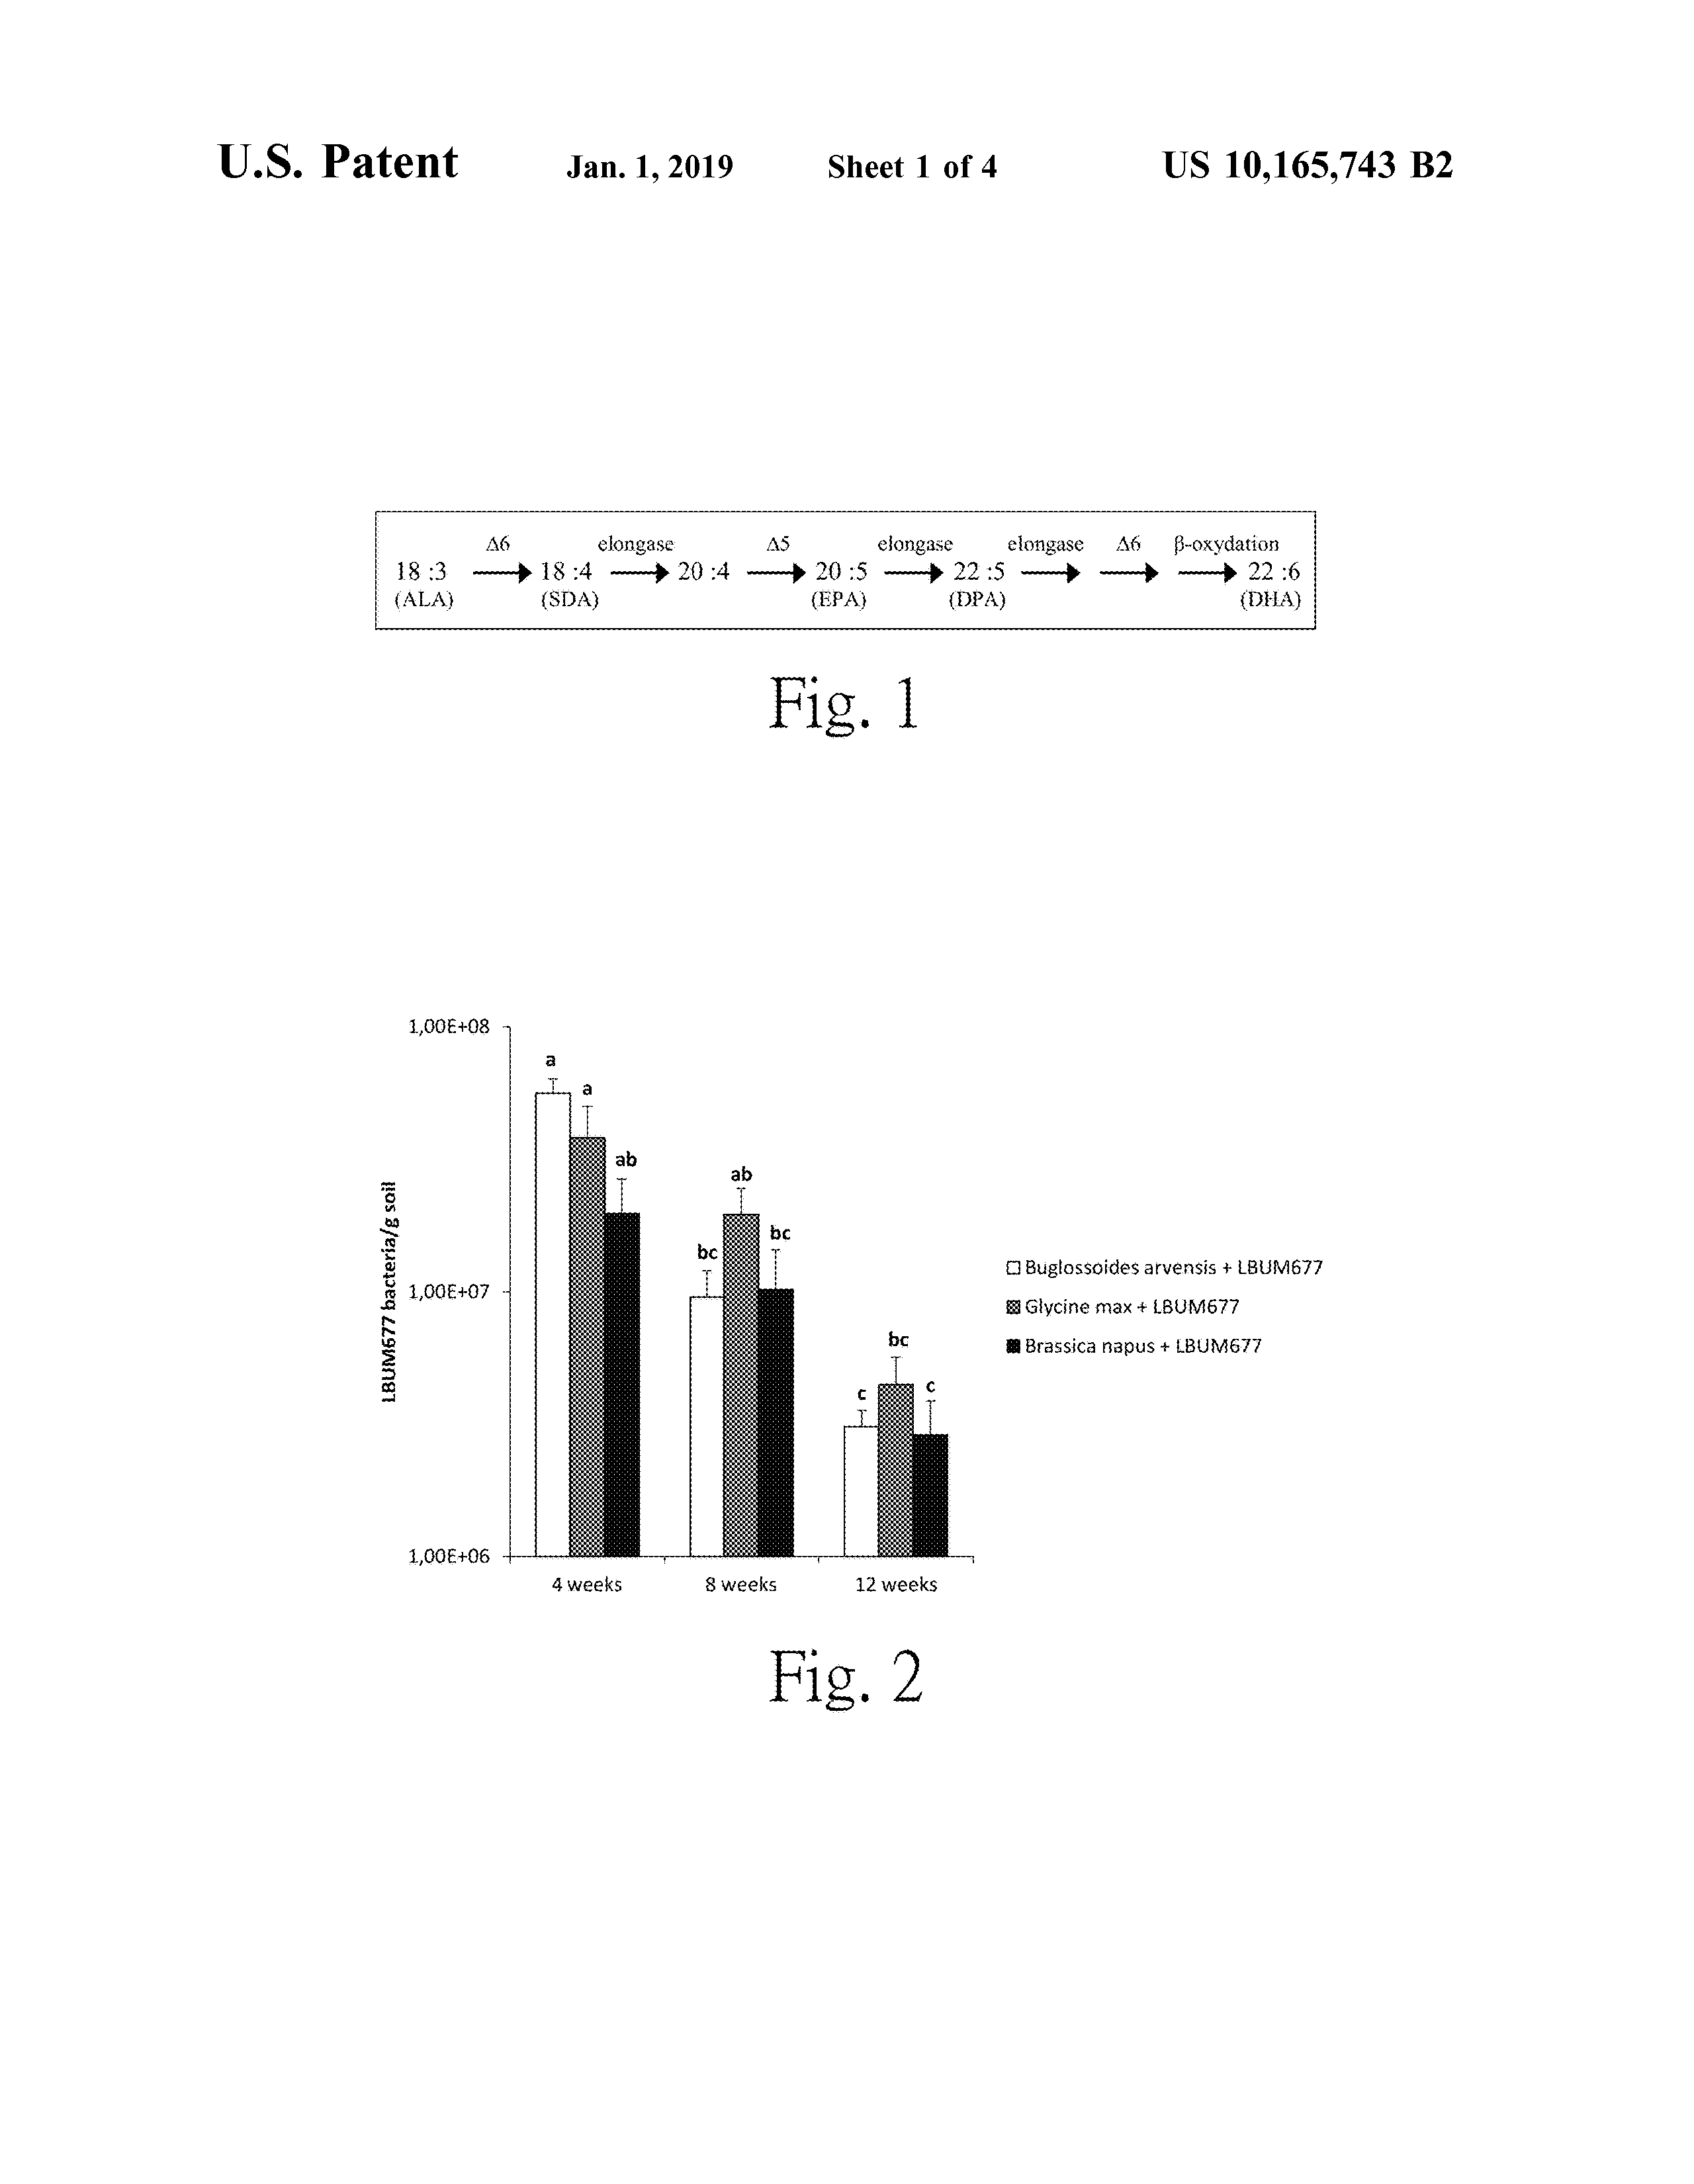patent image: (324, 893, 1405, 1773), (327, 469, 1386, 758)
